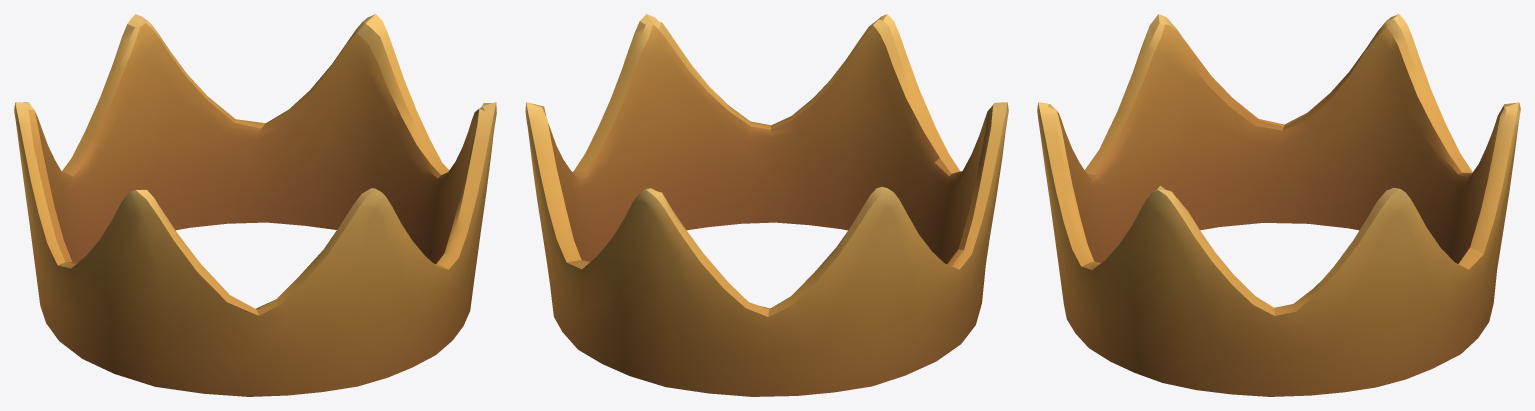
File: SM_Crown.fbx
The picture shows the model from 3 angles, left to right: view 1: azimuth 30°, elevation 25°; view 2: azimuth 150°, elevation 25°; view 3: azimuth 270°, elevation 25°; orthographic projection.
Visible parts, largest first — view 1: SM_Crown; view 2: SM_Crown; view 3: SM_Crown.
Boxes of the visible parts, x1,y1,x2,y2 form: SM_Crown: [14, 14, 496, 396]; SM_Crown: [525, 14, 1008, 396]; SM_Crown: [1037, 14, 1520, 396].
Size of the model in its own units: 82.95 by 41.51 by 88.94.
